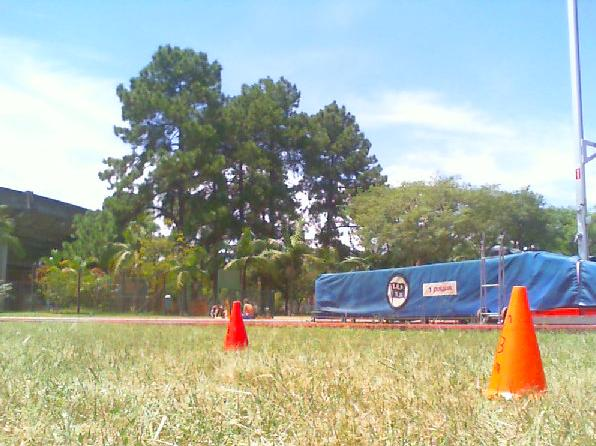0 cone: (482, 286, 549, 400), (222, 301, 248, 351)
